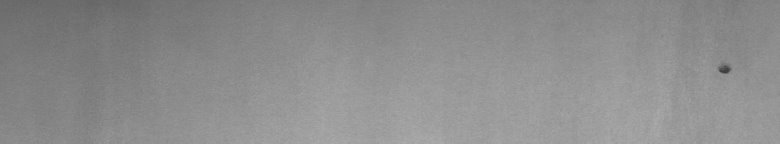fi: (716, 56, 736, 80)
